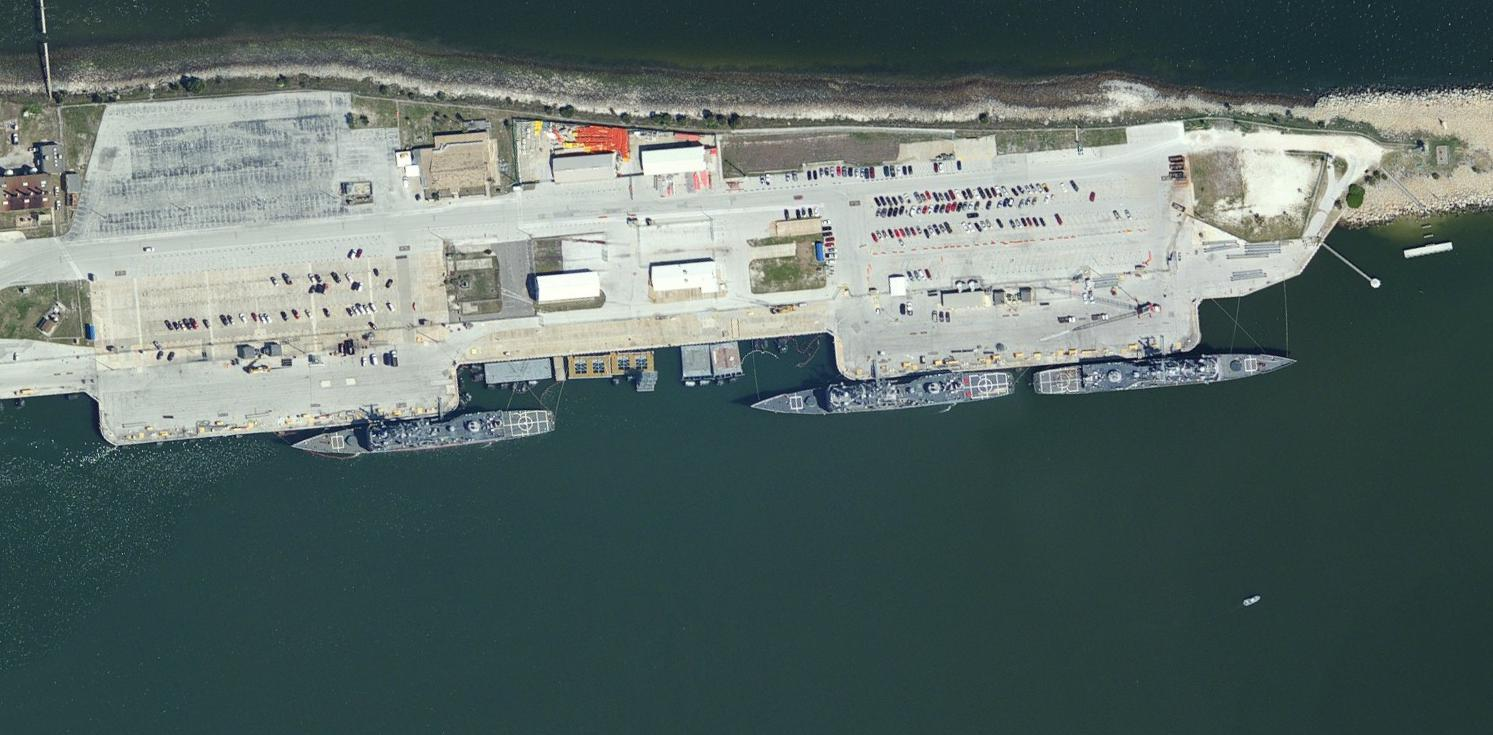destroyer: (287, 398, 559, 457), (750, 363, 1017, 422), (1026, 350, 1302, 397)
